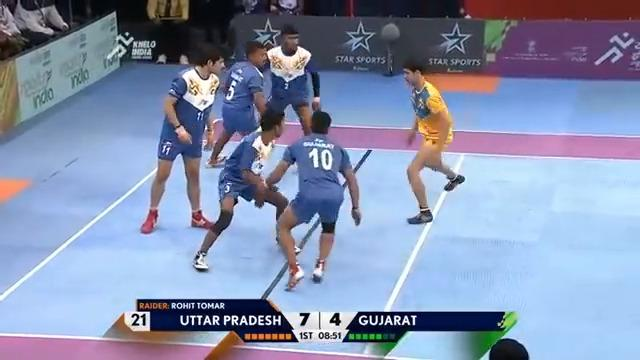Player: (265, 109, 361, 291), (191, 107, 295, 271), (139, 44, 226, 234), (205, 39, 272, 167), (261, 24, 319, 141)
Raider: (404, 59, 465, 223)
referee: (488, 337, 529, 359)
